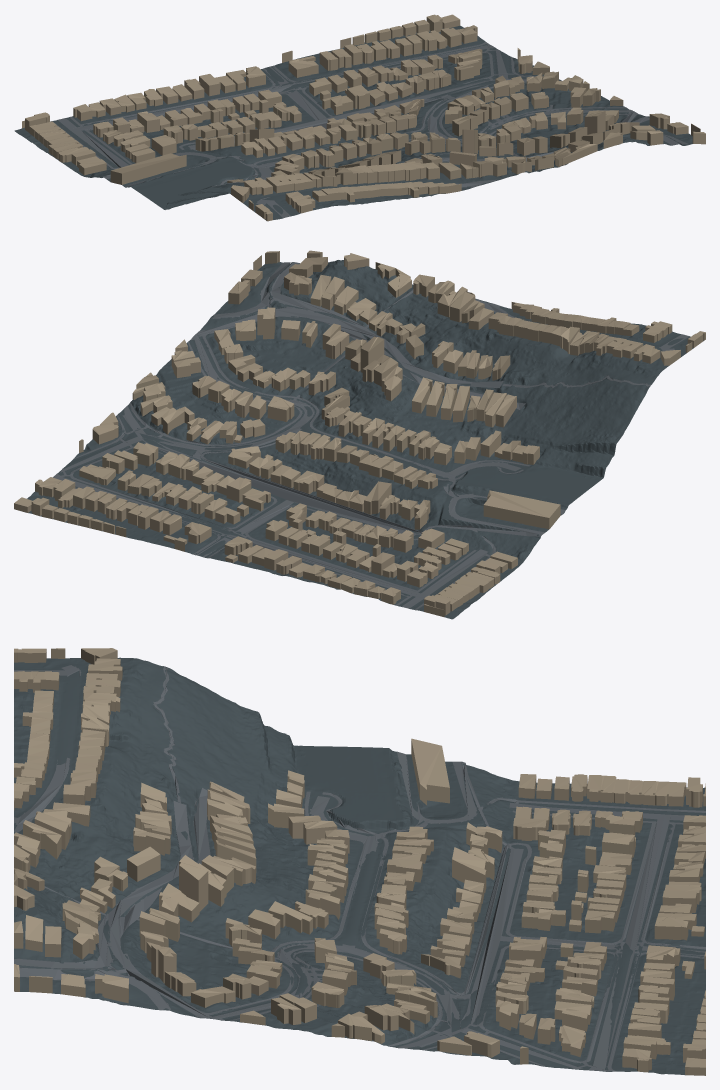
The model's file is epsg26910-1424-10879.lod0.glb.
3 views of the same model, one above another, from view 1: azimuth 30°, elevation 25°; view 2: azimuth 150°, elevation 25°; view 3: azimuth 270°, elevation 25° (orthographic). The views are drawn at different scales.
Visible parts, largest first — view 1: epsg26910-1424-10879-lod0; view 2: epsg26910-1424-10879-lod0; view 3: epsg26910-1424-10879-lod0.
Boxes of the visible parts, x1,y1,x2,y2 form: epsg26910-1424-10879-lod0: [14, 14, 705, 221]; epsg26910-1424-10879-lod0: [14, 250, 705, 619]; epsg26910-1424-10879-lod0: [14, 648, 705, 1075].
Bounding box in the file's own units: 384 × 85.87 × 384.
